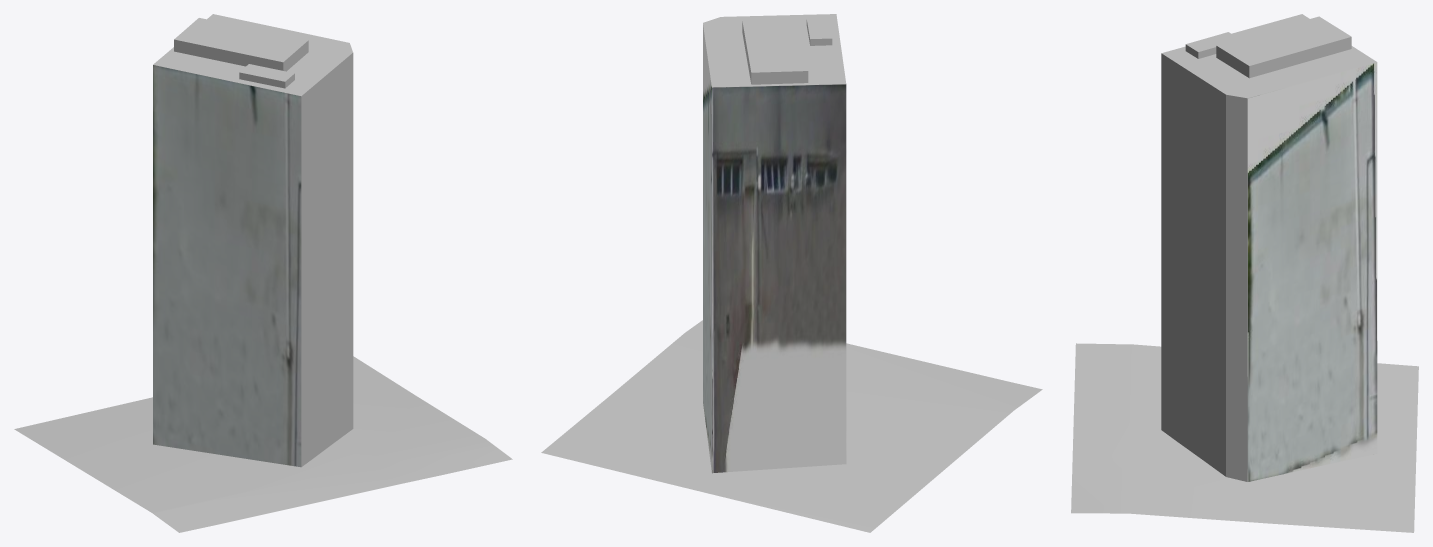
Rendered from Edifício+Ubur.fbx.
3 views of the same model, side by side, from view 1: azimuth 30°, elevation 25°; view 2: azimuth 150°, elevation 25°; view 3: azimuth 270°, elevation 25° (orthographic).
Parts seen in each view (by area): view 1: Model, Google_Earth_Terrain; view 2: Model, Google_Earth_Terrain; view 3: Model, Google_Earth_Terrain.
Boxes of the visible parts, box(x1,y1,x2,y2) form: Model: box(153, 14, 353, 467); Google_Earth_Terrain: box(14, 356, 512, 532); Model: box(703, 14, 846, 473); Google_Earth_Terrain: box(541, 320, 1042, 532); Model: box(1161, 14, 1377, 481); Google_Earth_Terrain: box(1071, 343, 1418, 532).
Size of the model in its own units: 52.17 by 59.69 by 46.2.
